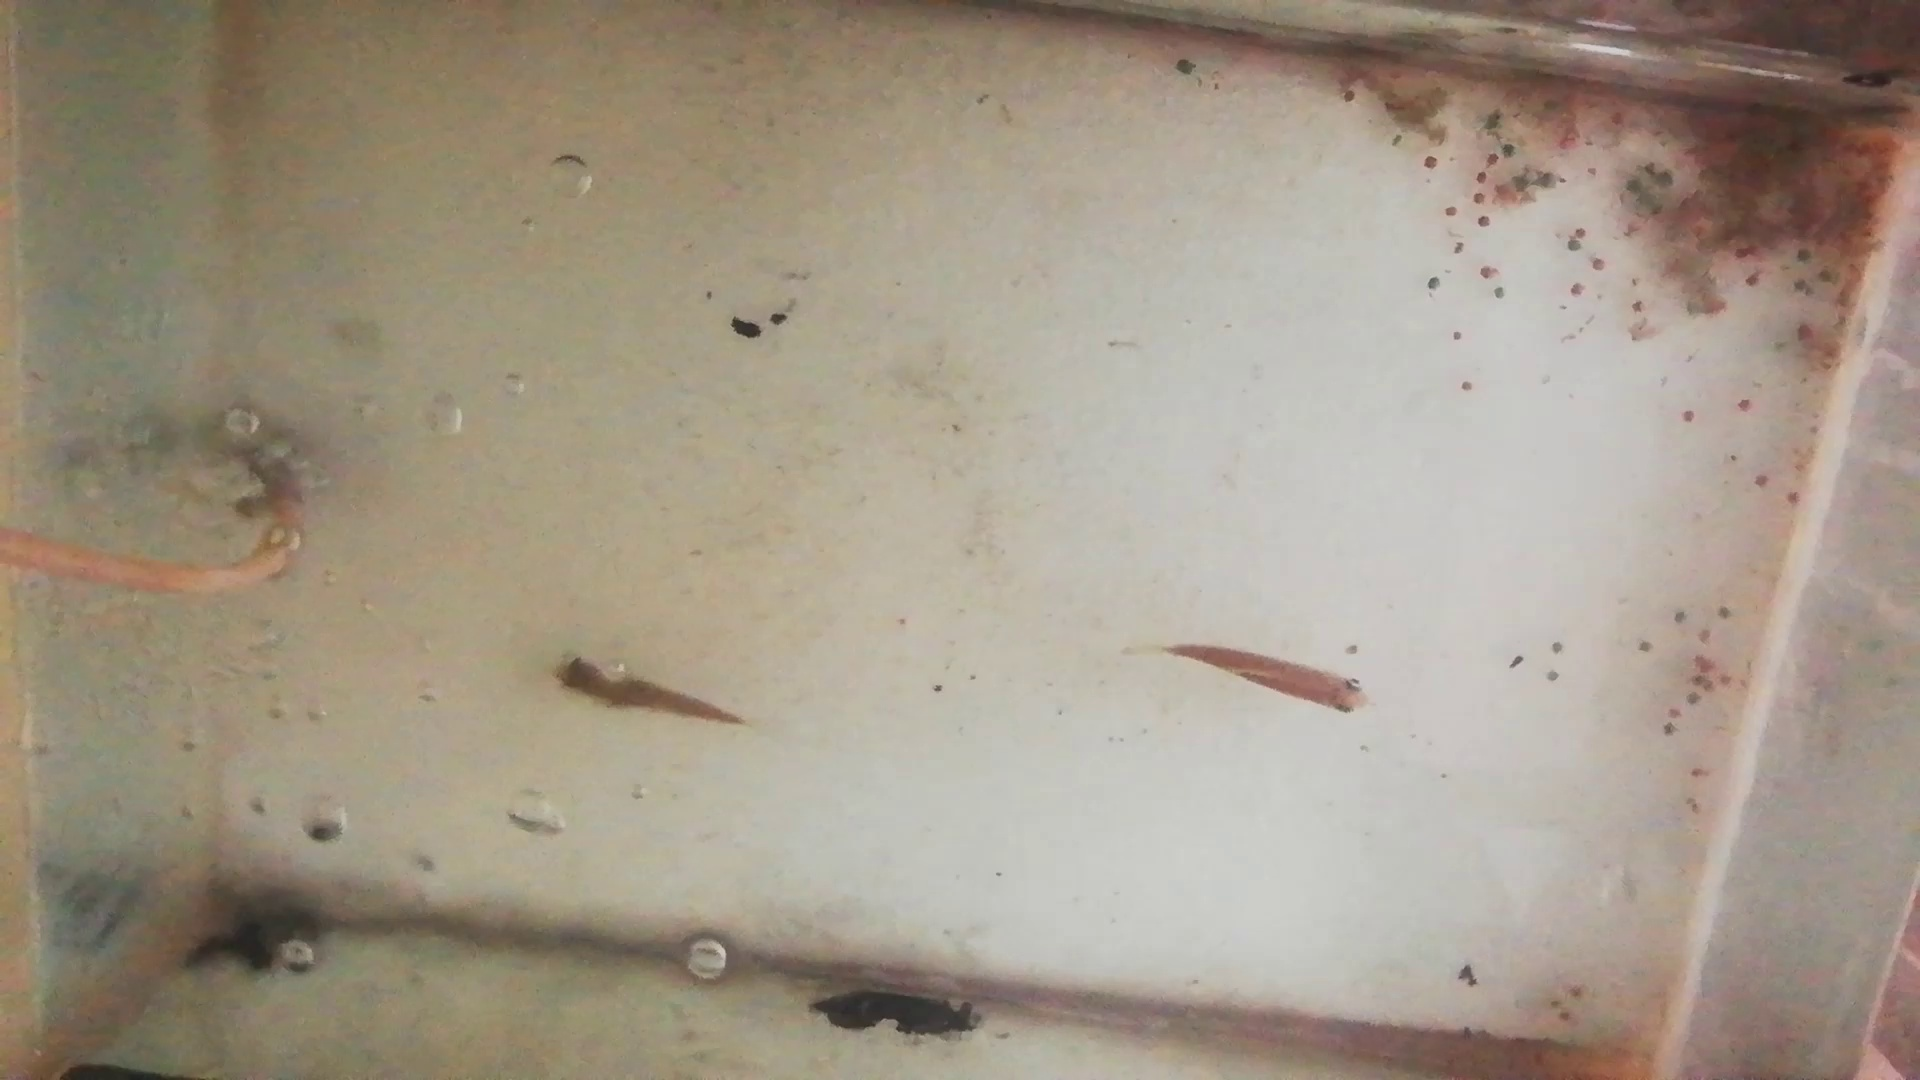fish: (551, 649, 742, 731), (1168, 644, 1371, 717)
